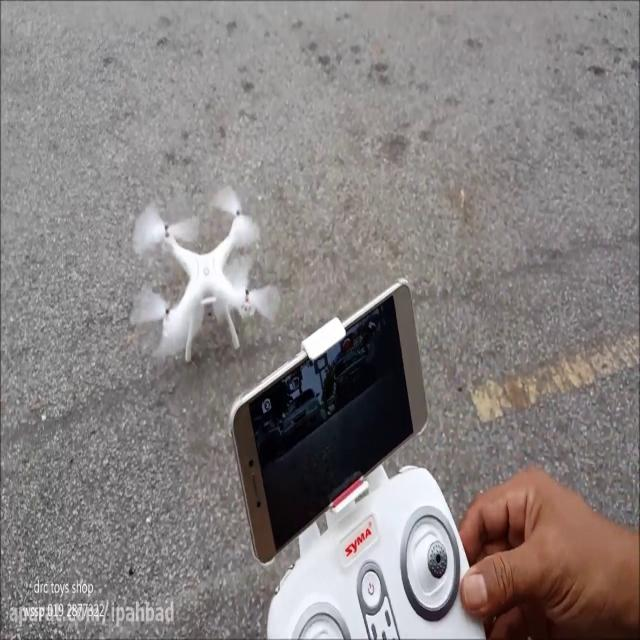drone: (126, 185, 282, 370)
